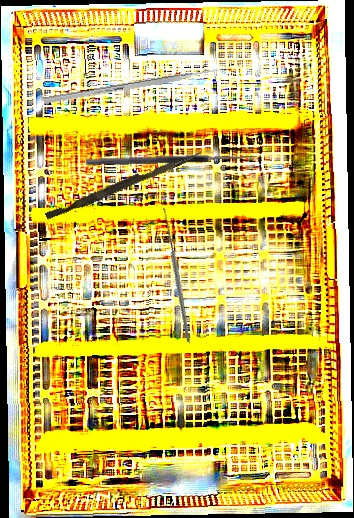Hook Surgical: (116, 205, 231, 343), (85, 144, 258, 167)
Pusher: (44, 145, 203, 224), (42, 64, 232, 105)
